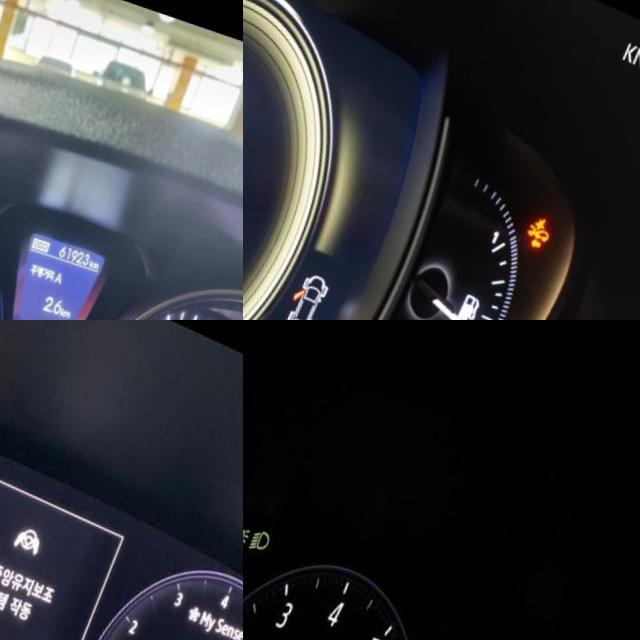Low beam: (255, 516, 278, 544)
SideLamp: (243, 509, 258, 534)
